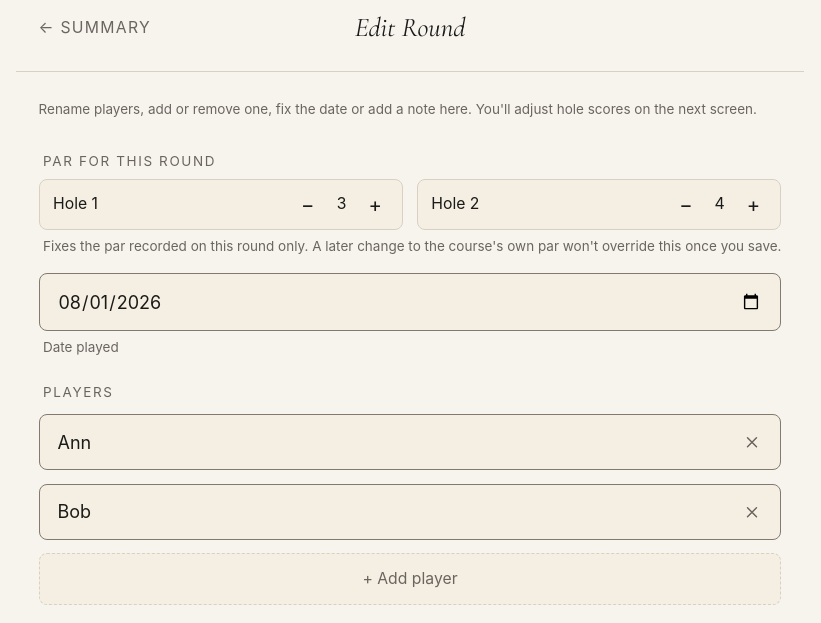
Setup — adding/removing players during an edit › adding a player opens a new empty field and focuses it
The image size is (821, 623).
Click the button "+ Add player" at coordinates (410, 579), box [38, 553, 782, 605]
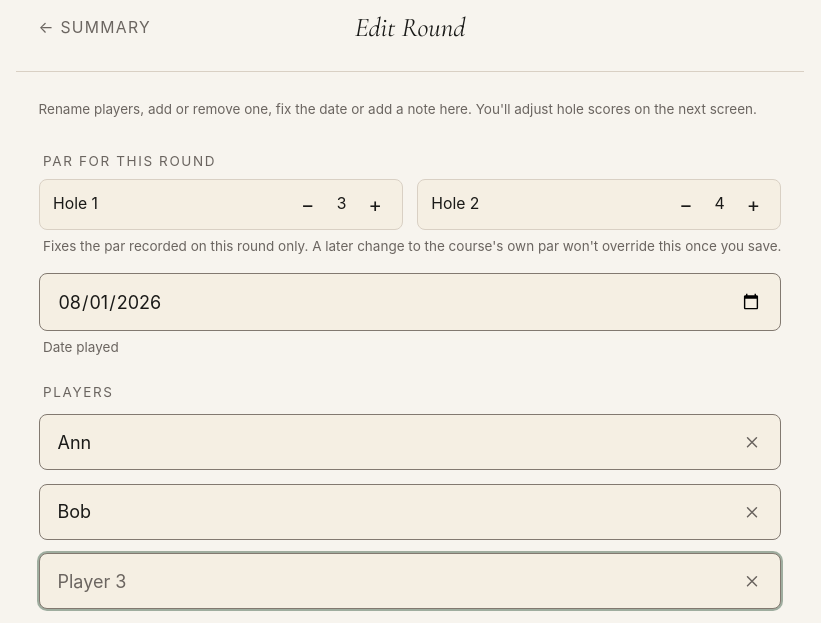
Check: the field with placeholder "Player 3" is shown, box [38, 553, 782, 609]
